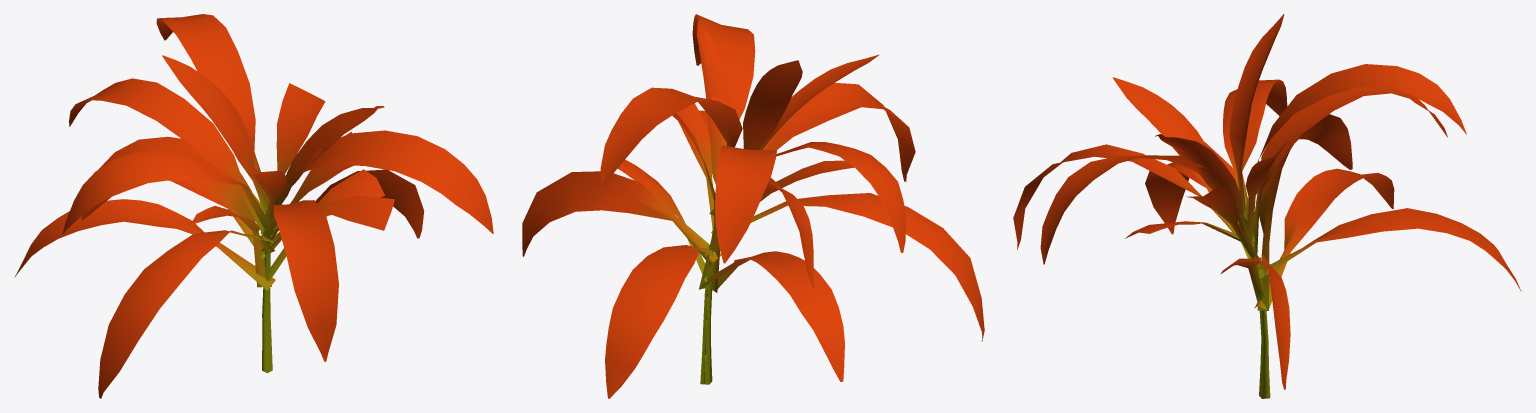
The model's file is Pink Cordyline_LOD1_Var3_sfhhN.fbx.
3 views of the same model, side by side, from view 1: azimuth 30°, elevation 25°; view 2: azimuth 150°, elevation 25°; view 3: azimuth 270°, elevation 25° (orthographic). The views are drawn at different scales.
Visible parts, largest first — view 1: _da79_Var3_LOD1; view 2: _da79_Var3_LOD1; view 3: _da79_Var3_LOD1.
Part boxes in pixels (x1=…): _da79_Var3_LOD1: x1=15, y1=14, x2=493, y2=398; _da79_Var3_LOD1: x1=522, y1=14, x2=984, y2=398; _da79_Var3_LOD1: x1=1013, y1=14, x2=1521, y2=398.
Bounding box in the file's own units: 73.63 × 61.71 × 84.64.
